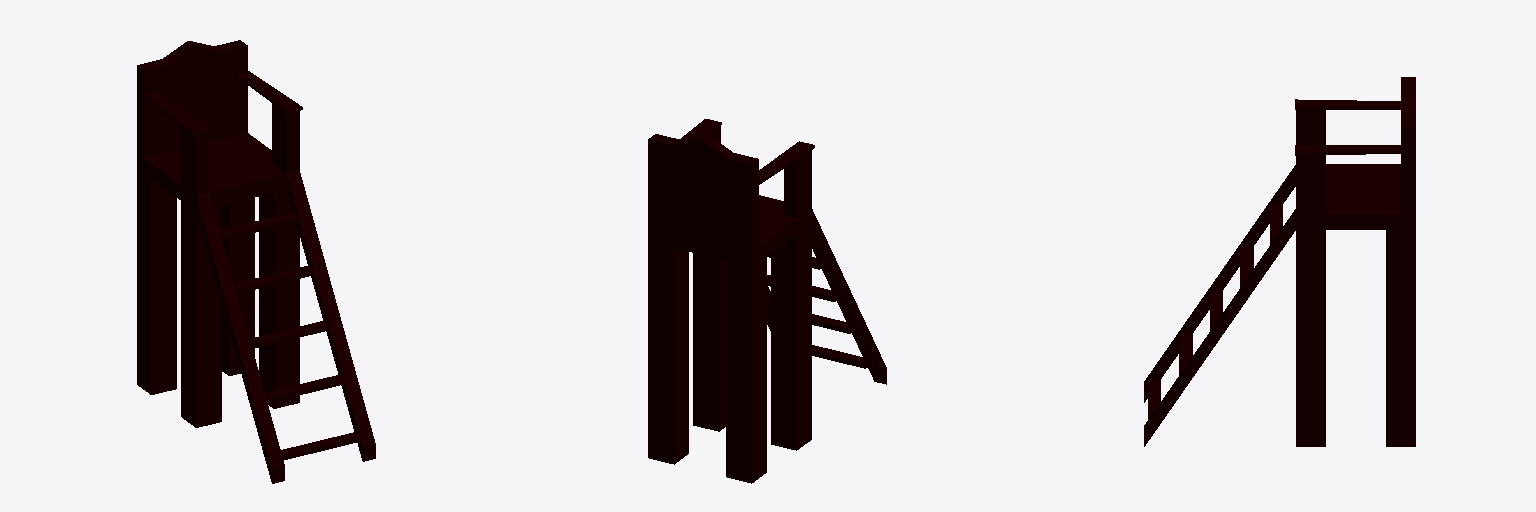
Rendered from SalvaVidas.obj.
The picture shows the model from 3 angles: view 1: azimuth 30°, elevation 25°; view 2: azimuth 150°, elevation 25°; view 3: azimuth 270°, elevation 25°; orthographic projection.
Visible parts, largest first — view 1: Cube; view 2: Cube; view 3: Cube.
Part boxes in pixels (bbox=[...]): Cube: bbox=[137, 40, 375, 483]; Cube: bbox=[648, 119, 886, 483]; Cube: bbox=[1144, 77, 1415, 446].
Size of the model in its own units: 2.11 by 6.12 by 4.53.